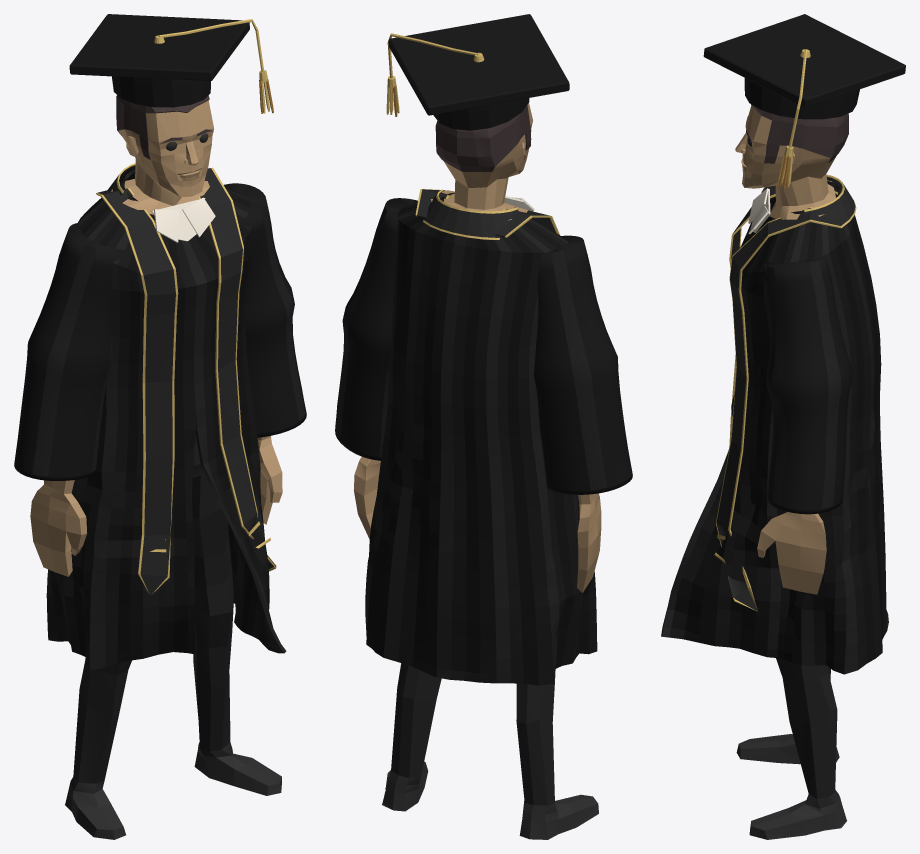
Rendered from graduate_rest_small.glb.
3 renders of one model, left to right at view 1: azimuth 30°, elevation 25°; view 2: azimuth 150°, elevation 25°; view 3: azimuth 270°, elevation 25°, orthographic. The views are drawn at different scales.
Parts seen in each view (by area): view 1: Rest_00, Rest_25, Rest_02, Rest_04, Rest_01, Rest_14, Rest_03, Rest_13, Rest_11, Rest_10; view 2: Rest_00, Rest_25, Rest_02, Rest_14, Rest_01, Rest_05, Rest_13, Rest_04; view 3: Rest_00, Rest_25, Rest_01, Rest_14, Rest_03, Rest_13, Rest_05, Rest_04.
Part boxes in pixels (bbox=[...]): Rest_00: bbox=[46, 169, 286, 670]; Rest_25: bbox=[30, 95, 282, 839]; Rest_02: bbox=[14, 223, 125, 480]; Rest_04: bbox=[96, 188, 178, 595]; Rest_01: bbox=[224, 183, 306, 437]; Rest_14: bbox=[69, 14, 249, 80]; Rest_03: bbox=[198, 167, 276, 571]; Rest_13: bbox=[112, 76, 210, 107]; Rest_11: bbox=[182, 197, 215, 237]; Rest_10: bbox=[154, 209, 179, 242]; Rest_00: bbox=[365, 192, 597, 685]; Rest_25: bbox=[354, 103, 601, 839]; Rest_02: bbox=[534, 235, 632, 494]; Rest_14: bbox=[388, 14, 569, 115]; Rest_01: bbox=[335, 198, 417, 460]; Rest_05: bbox=[423, 189, 518, 239]; Rest_13: bbox=[433, 98, 529, 130]; Rest_04: bbox=[495, 209, 559, 237]; Rest_00: bbox=[661, 181, 888, 674]; Rest_25: bbox=[735, 104, 848, 839]; Rest_01: bbox=[762, 254, 851, 514]; Rest_14: bbox=[703, 14, 905, 107]; Rest_03: bbox=[716, 207, 841, 611]; Rest_13: bbox=[744, 78, 859, 119]; Rest_05: bbox=[804, 174, 856, 227]; Rest_04: bbox=[729, 185, 838, 446].
Size of the model in its own units: 0.725 by 1.84 by 0.5498.
